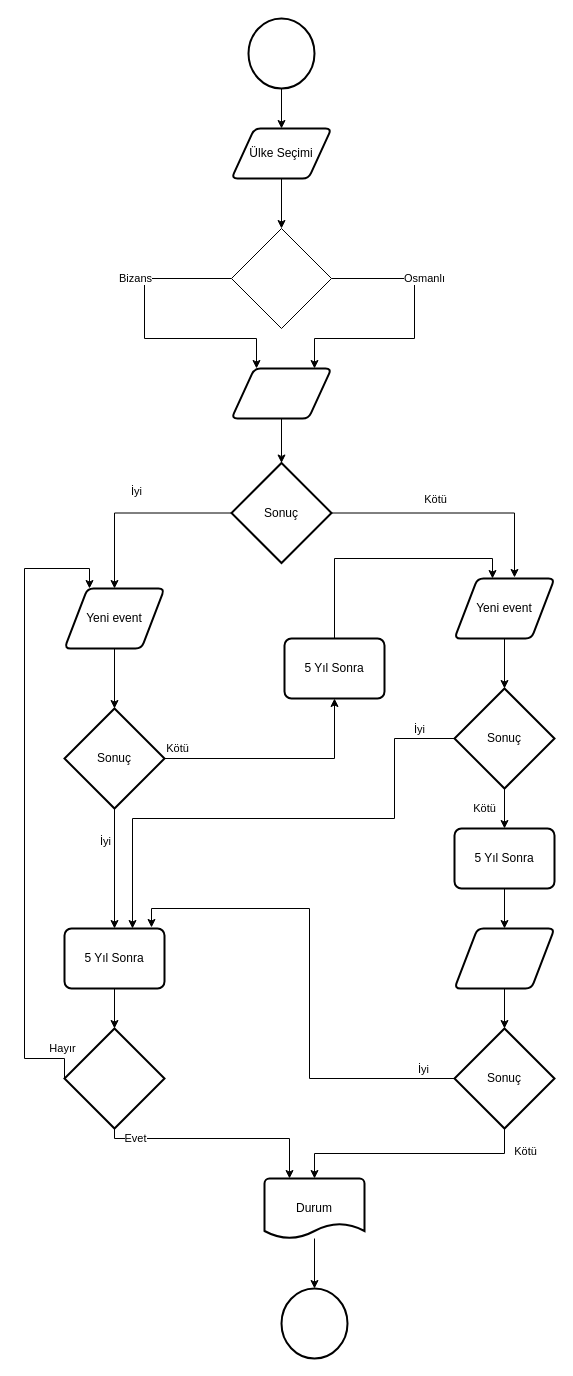
Some shapes in this 573 by 1376 pixel diagram are drawn without their labels. Each missing label, with the box of its shape:
Bitiş: (280, 1287, 348, 1359)
Giriş Event: (230, 367, 332, 419)
Son event: (453, 927, 555, 989)
Start: (247, 17, 315, 89)
Yıl>=1449: (63, 1027, 165, 1129)
Ülke: (230, 228, 332, 328)
